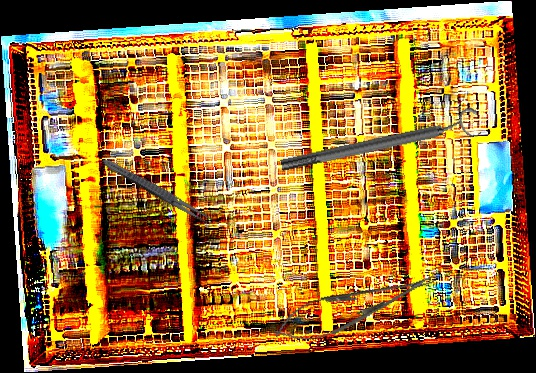Dressing Forceps: (99, 155, 217, 228)
Fixation Ring: (277, 106, 483, 180)
Needle Holder: (269, 260, 440, 354)
